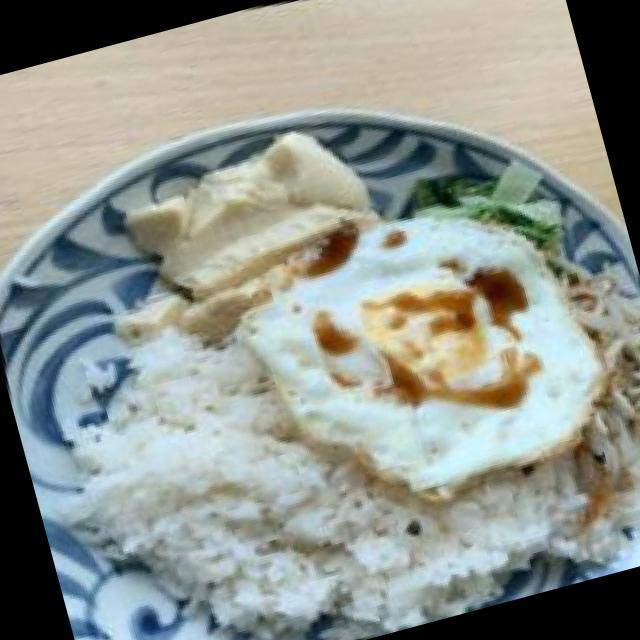fried_eggs: (269, 196, 592, 488)
mung_bean_sprouts: (560, 279, 640, 496)
rice: (28, 320, 339, 640), (278, 435, 590, 631)
